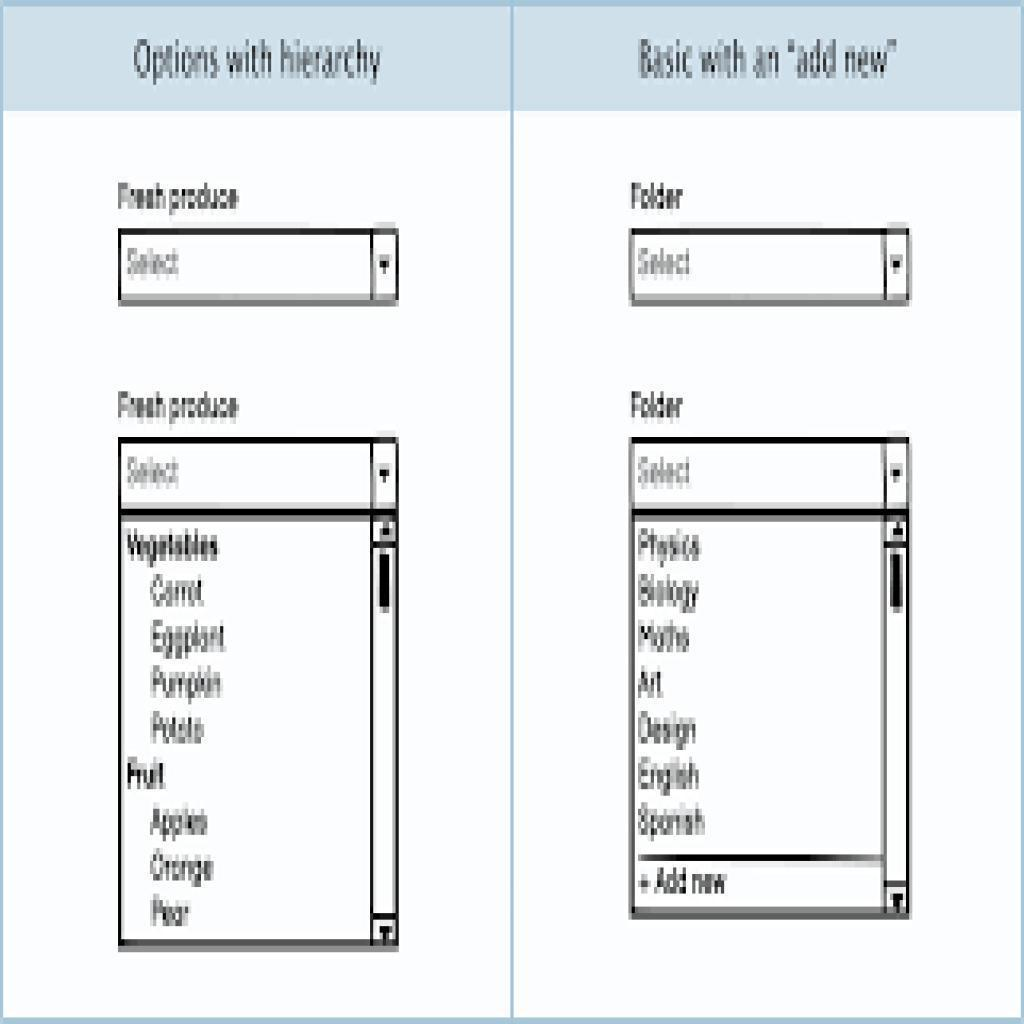dropdown: (628, 228, 911, 305), (118, 228, 400, 305), (630, 436, 910, 513), (119, 437, 399, 513)
